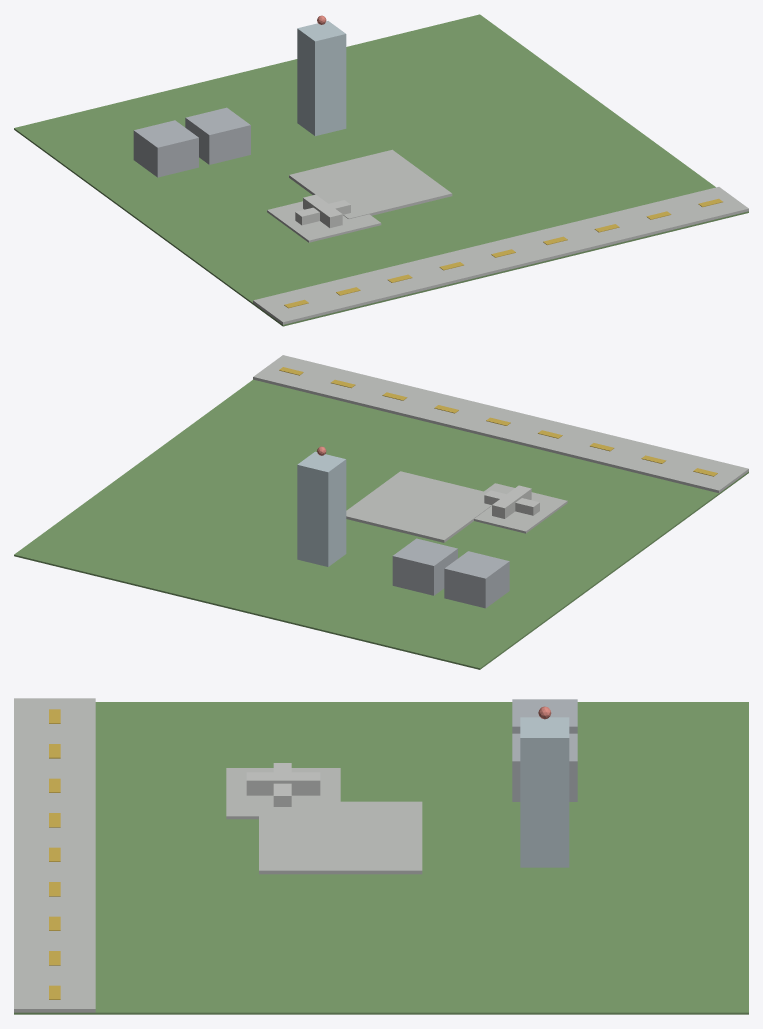
The model's file is stage_05.glb.
The picture shows the model from 3 angles, top to bottom: view 1: azimuth 30°, elevation 25°; view 2: azimuth 150°, elevation 25°; view 3: azimuth 270°, elevation 25°; orthographic projection. The views are drawn at different scales.
Visible parts, largest first — view 1: geometry_0; view 2: geometry_0; view 3: geometry_0.
Boxes of the visible parts, left/top/right/bottom form: geometry_0: left=14, top=14, right=748, bottom=326; geometry_0: left=14, top=355, right=748, bottom=669; geometry_0: left=14, top=698, right=748, bottom=1014.
Size of the model in its own units: 9 by 2.06 by 9.
